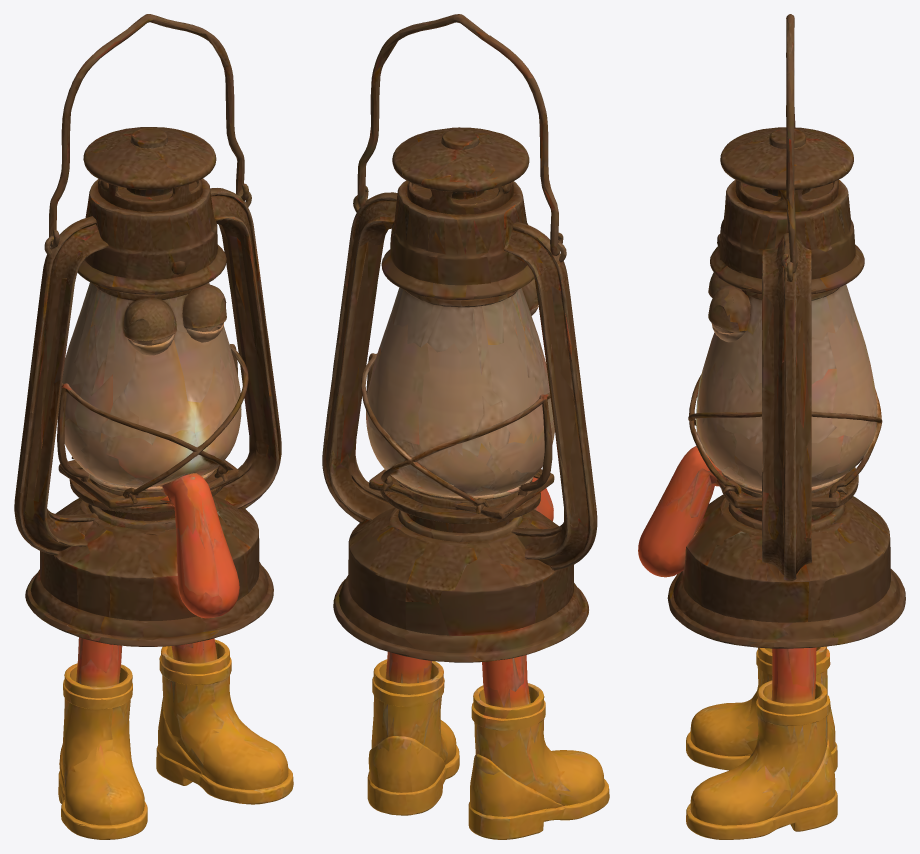
The model's file is mines_lantern.glb.
3 views of the same model, side by side, from view 1: azimuth 30°, elevation 25°; view 2: azimuth 150°, elevation 25°; view 3: azimuth 270°, elevation 25° (orthographic). The views are drawn at different scales.
Parts seen in each view (by area): view 1: Mesh_0; view 2: Mesh_0; view 3: Mesh_0.
Part boxes in pixels (x1=…): Mesh_0: x1=14, y1=14, x2=293, y2=839; Mesh_0: x1=322, y1=14, x2=609, y2=839; Mesh_0: x1=638, y1=14, x2=905, y2=839.
Bounding box in the file's own units: 0.6798 × 1.9 × 0.5939.
Materials: 1 (1 with a texture image).
